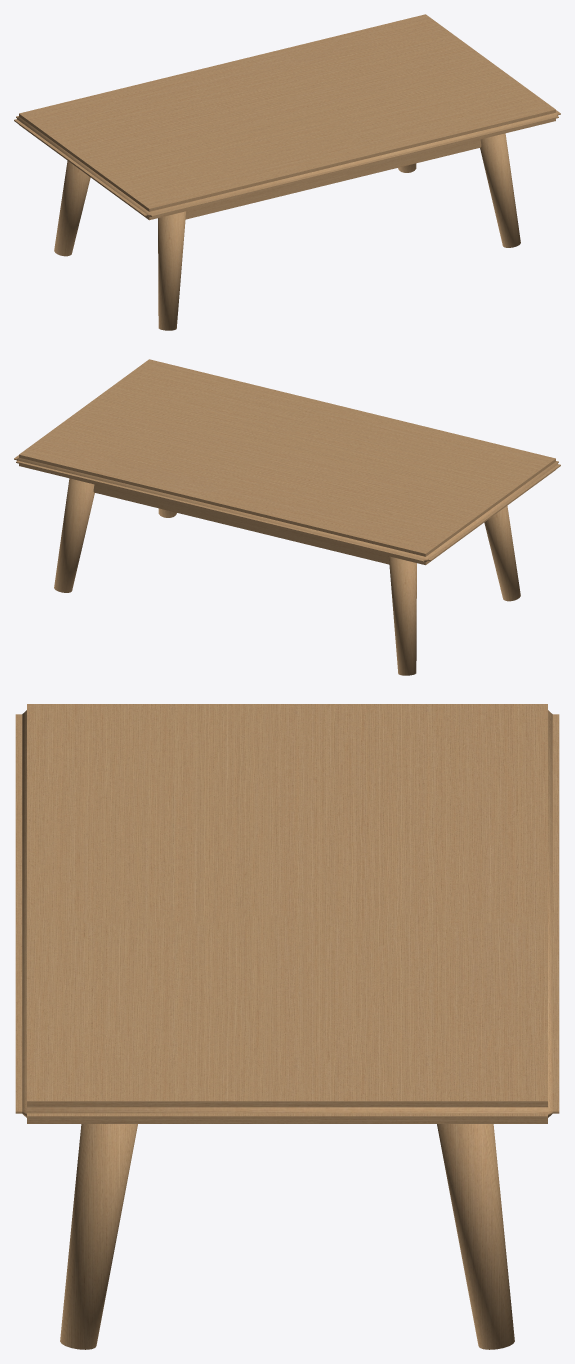
The model's file is scandinavian.coffee_table.gltf.
3 renders of one model, top to bottom at view 1: azimuth 30°, elevation 25°; view 2: azimuth 150°, elevation 25°; view 3: azimuth 270°, elevation 25°, orthographic. The views are drawn at different scales.
Parts seen in each view (by area): view 1: scandinavian.coffee_table.rounded-top; view 2: scandinavian.coffee_table.rounded-top; view 3: scandinavian.coffee_table.rounded-top.
Boxes of the visible parts, x1=… form: scandinavian.coffee_table.rounded-top: x1=14, y1=14, x2=560, y2=330; scandinavian.coffee_table.rounded-top: x1=14, y1=359, x2=560, y2=675; scandinavian.coffee_table.rounded-top: x1=15, y1=704, x2=559, y2=1349.
Size of the model in its own units: 1.15 by 0.3639 by 0.65.
Materials: 1 (1 with a texture image).
